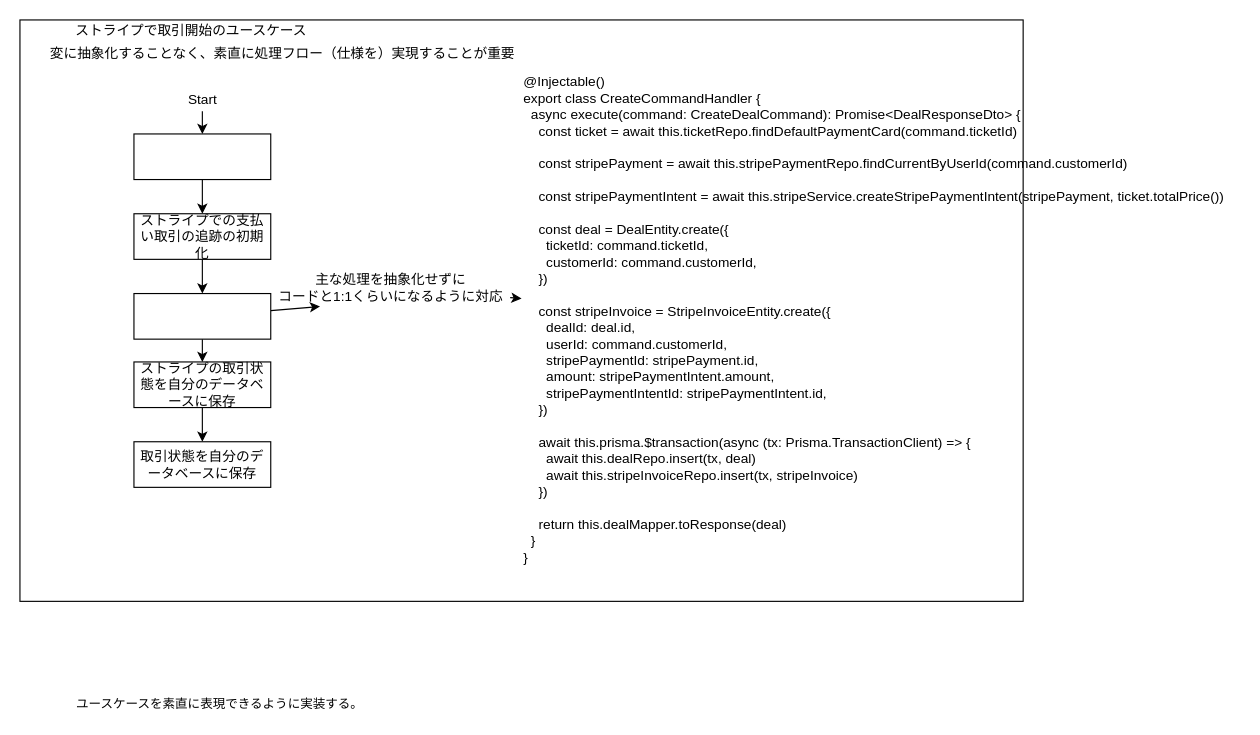
Image size: 1260x735. Some labels were removed from this diagram. The shapes that lost their labels are listed below. From the top down, each one's box as (x1, y1, x2, y2) in pixels, then its label:
(133, 133, 271, 180): デフォルトの支払い方法の取得
(133, 292, 271, 339): 取引オブジェクトを作成
